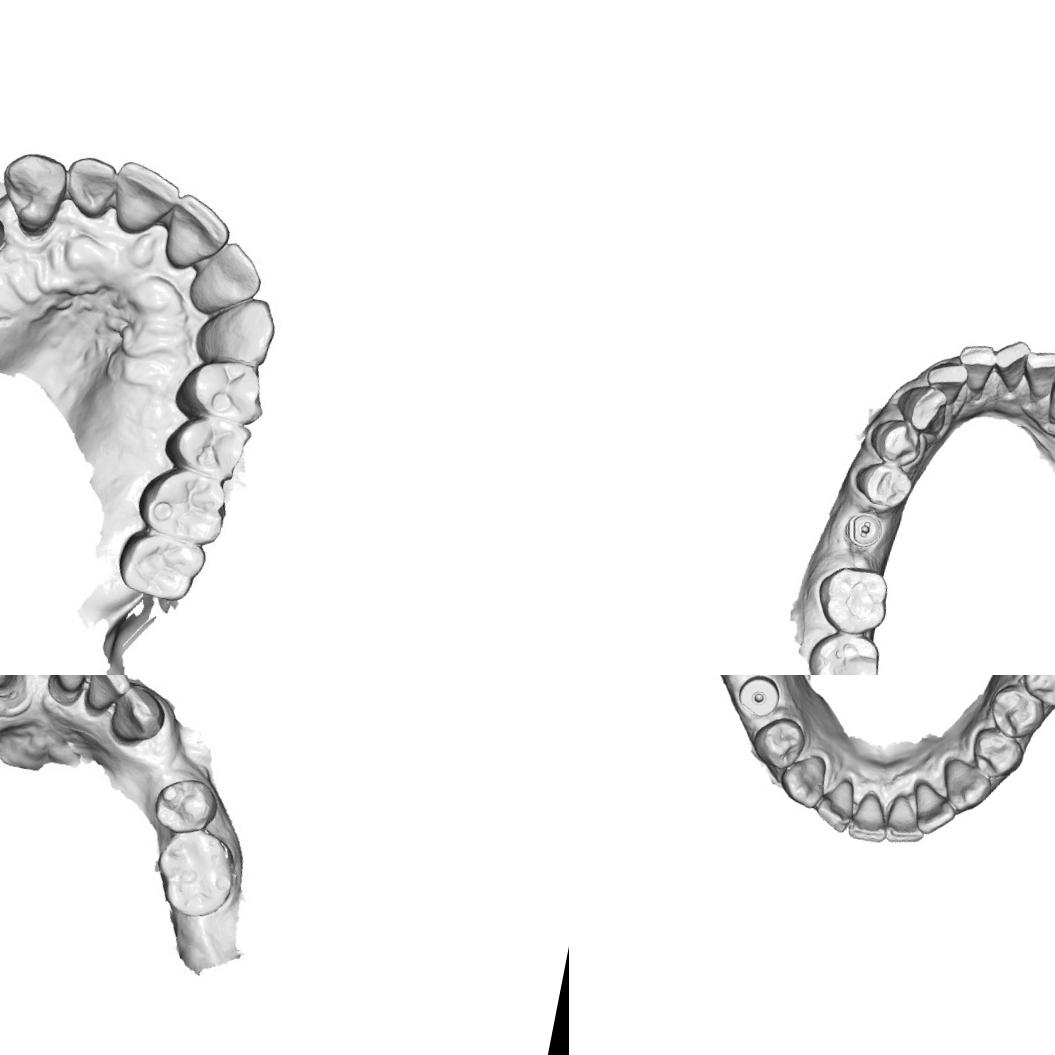canine: (185, 285, 284, 378), (0, 143, 70, 241), (104, 675, 171, 752), (934, 752, 997, 817), (774, 747, 831, 812), (890, 379, 951, 439), (1043, 364, 1055, 429)
implant: (731, 675, 783, 722)
implant_minus: (842, 509, 886, 550)
incisor: (163, 188, 229, 270), (112, 157, 181, 235), (192, 238, 254, 319), (60, 151, 122, 222), (903, 774, 963, 838), (808, 770, 860, 835), (844, 785, 895, 848), (880, 790, 932, 850), (952, 338, 1000, 396), (986, 335, 1032, 394), (920, 355, 970, 408), (1016, 344, 1055, 407), (79, 675, 134, 717), (38, 675, 94, 703)
molar: (109, 520, 211, 608), (153, 822, 238, 924), (132, 458, 230, 546), (810, 558, 893, 640), (798, 624, 886, 675)
premolar: (169, 350, 273, 431), (156, 410, 252, 478), (148, 772, 222, 839), (983, 679, 1050, 744), (746, 710, 810, 774), (848, 456, 915, 515), (864, 412, 926, 472), (966, 722, 1028, 782)
